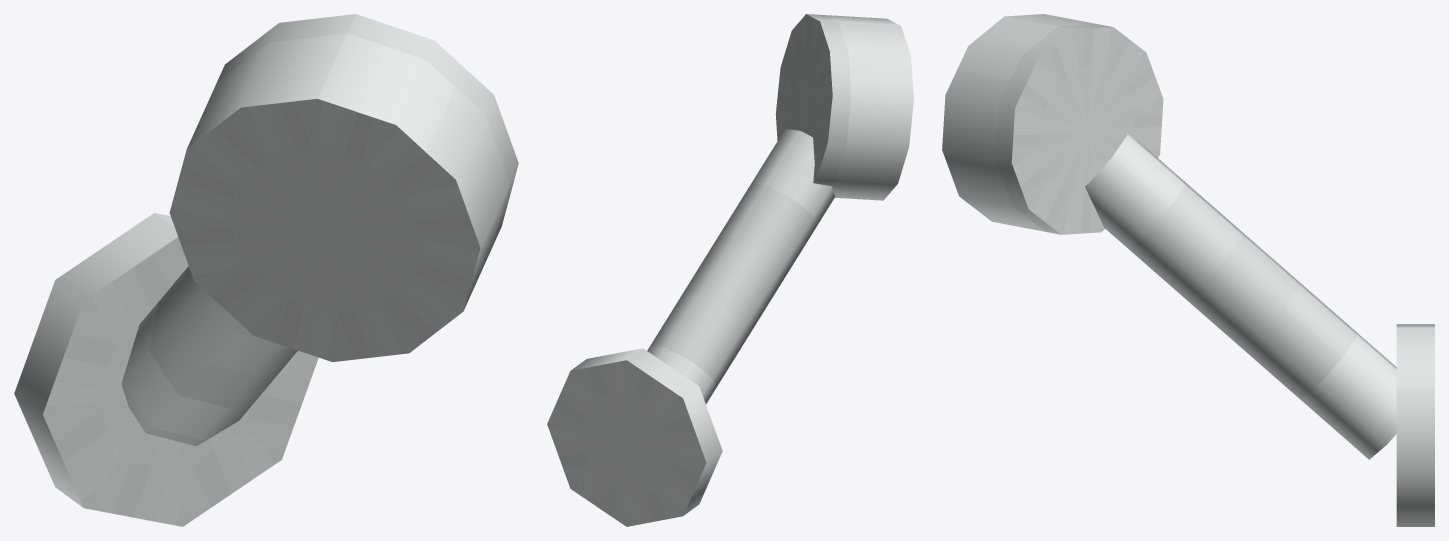
The model's file is nycsignalarm_stub_119.obj.
3 views of the same model, side by side, from view 1: azimuth 30°, elevation 25°; view 2: azimuth 150°, elevation 25°; view 3: azimuth 270°, elevation 25° (orthographic). The views are drawn at different scales.
Parts seen in each view (by area): view 1: nycsignalarm_stub_119; view 2: nycsignalarm_stub_119; view 3: nycsignalarm_stub_119.
Part boxes in pixels (bbox=[...]): nycsignalarm_stub_119: bbox=[14, 14, 518, 526]; nycsignalarm_stub_119: bbox=[547, 14, 913, 526]; nycsignalarm_stub_119: bbox=[942, 14, 1434, 526].
Bounding box in the file's own units: 0.4755 × 0.8441 × 0.7998.
